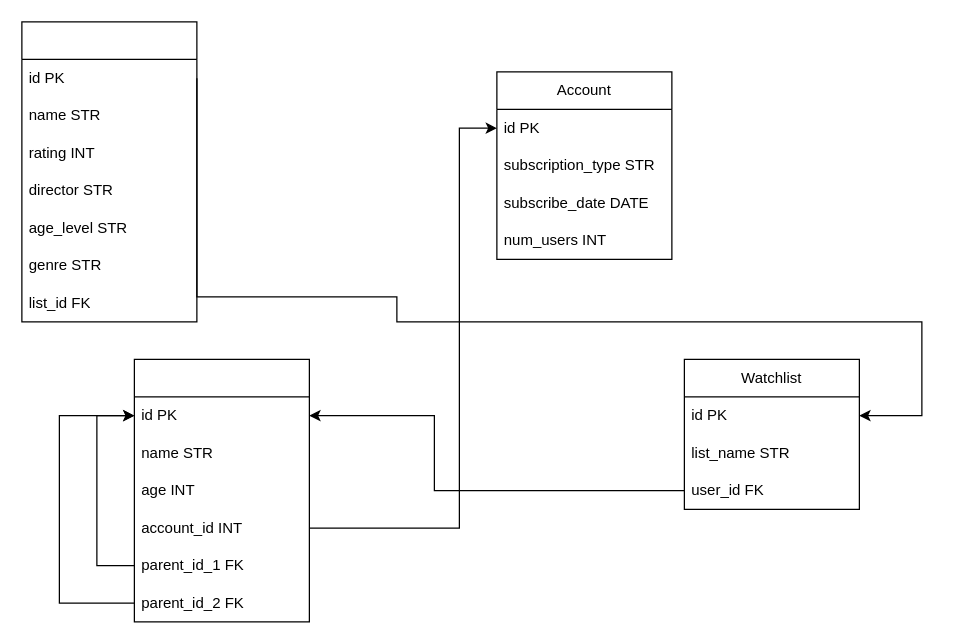
Some shapes in this 954 by 644 pixel diagram are drawn without their labels. The shapes that lost their labels are listed below. From the top down, each one's box as (x1, y1, x2, y2) in pixels, then its label:
(21, 21, 197, 322): Movies
(133, 358, 309, 622): Profile
